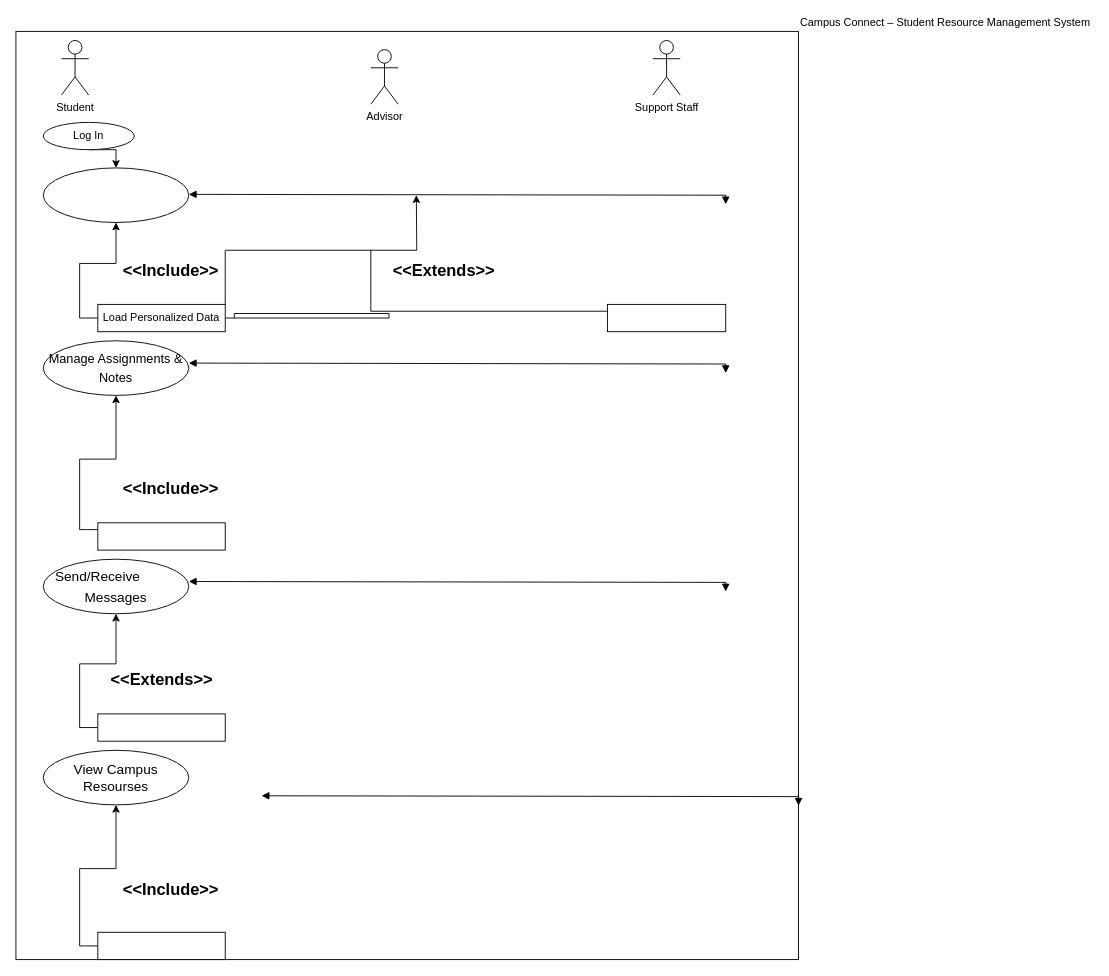
Some shapes in this 1109 by 976 pixel diagram are drawn without their labels. Here are the shapes that lost their labels. From the top down, the centre of each, then its label:
the point at 115,194: View Dashboard
the point at 666,317: Receive Notifacations
the point at 161,536: Update Personalized Database
the point at 161,727: Receive Notifications
the point at 161,945: Load Resource Data
